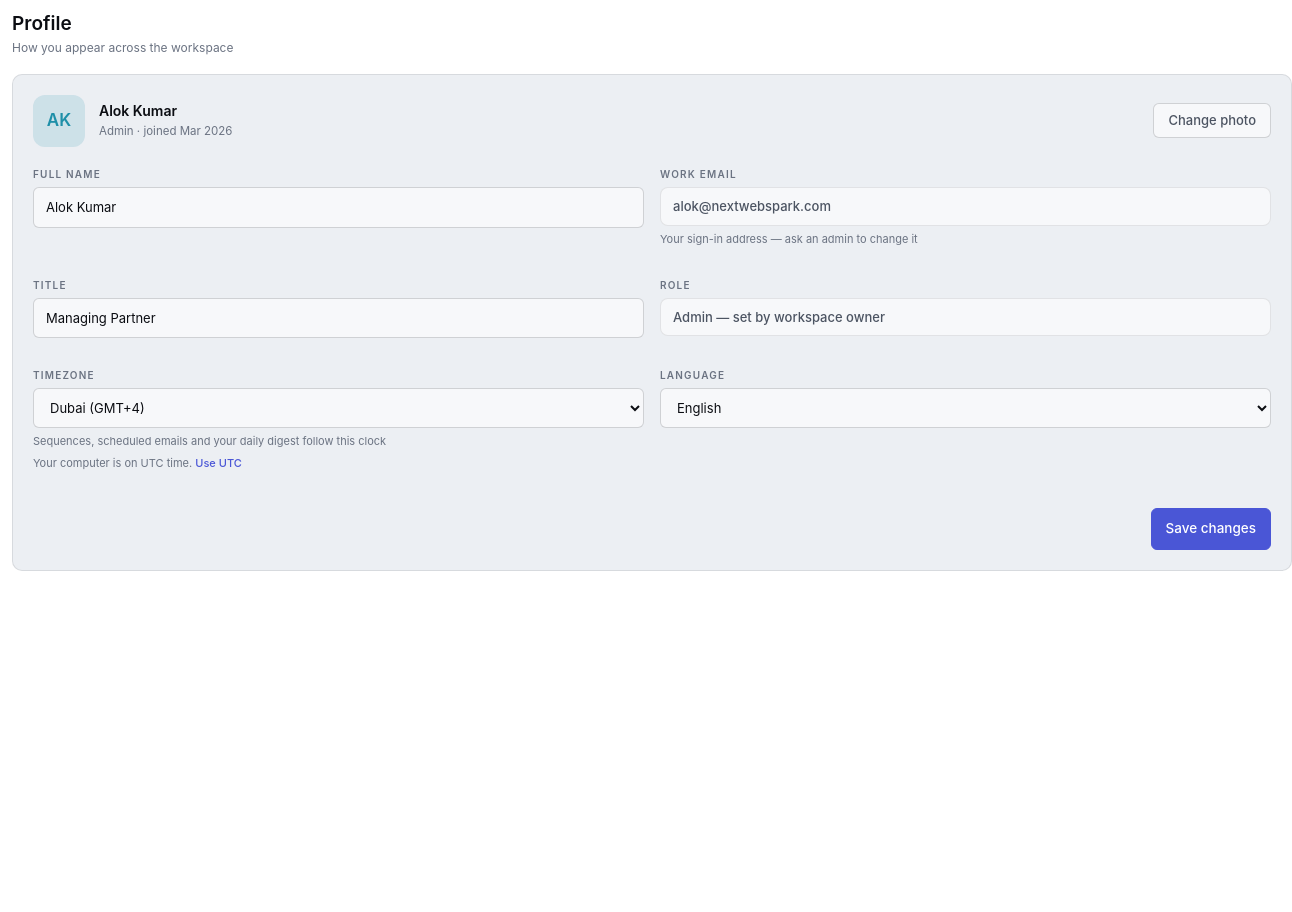
SettingsProfilePage — your own profile › saves the trimmed fields, refreshes the session, and says so
The image size is (1292, 912).
Replace the text in the field labelled "Full name" with "  Alok B Kumar  ": (338, 207) [33, 187, 644, 228]
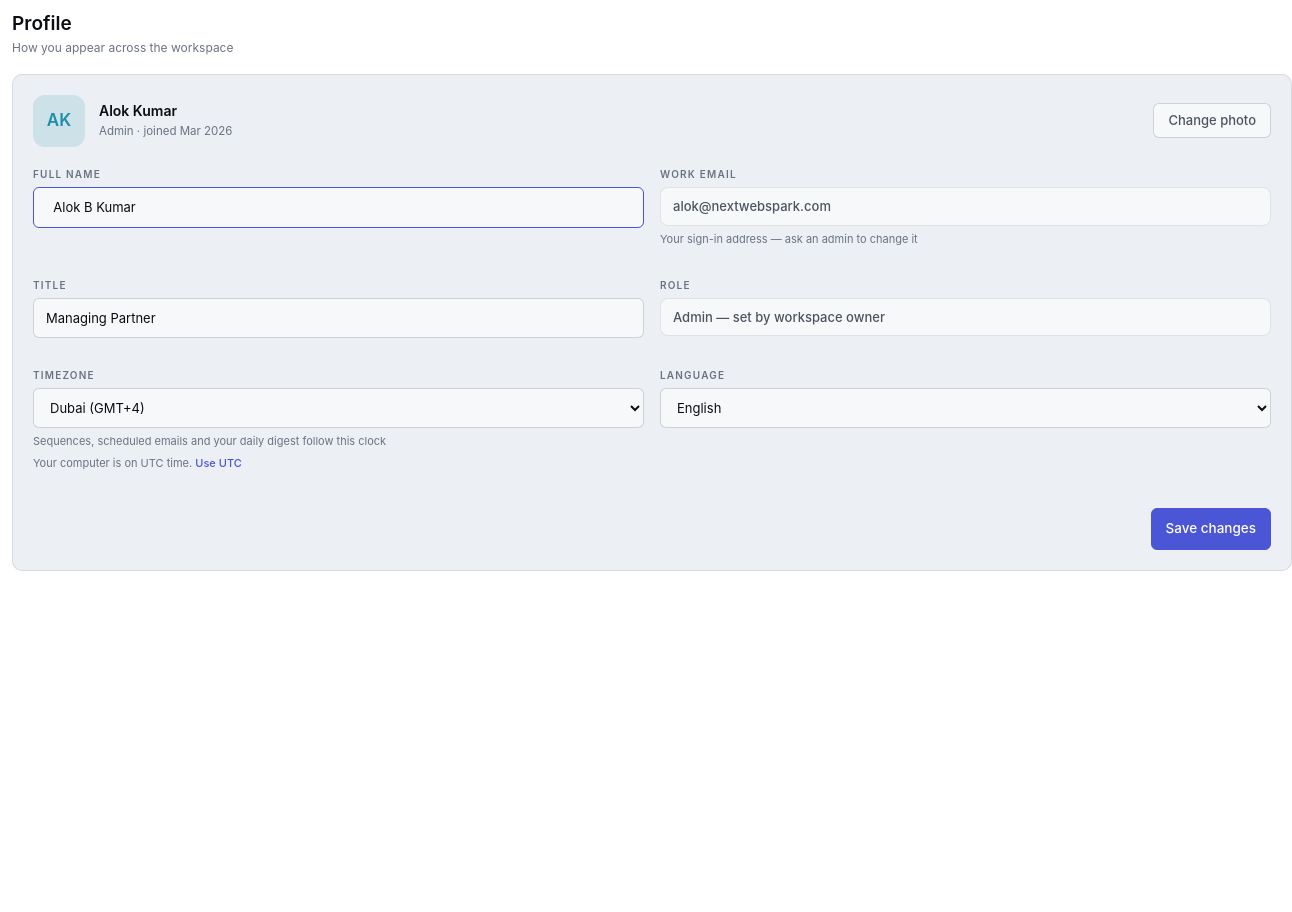
Select "Riyadh (GMT+3)" in the dropdown labelled "Timezone": (338, 408) [33, 388, 644, 428]
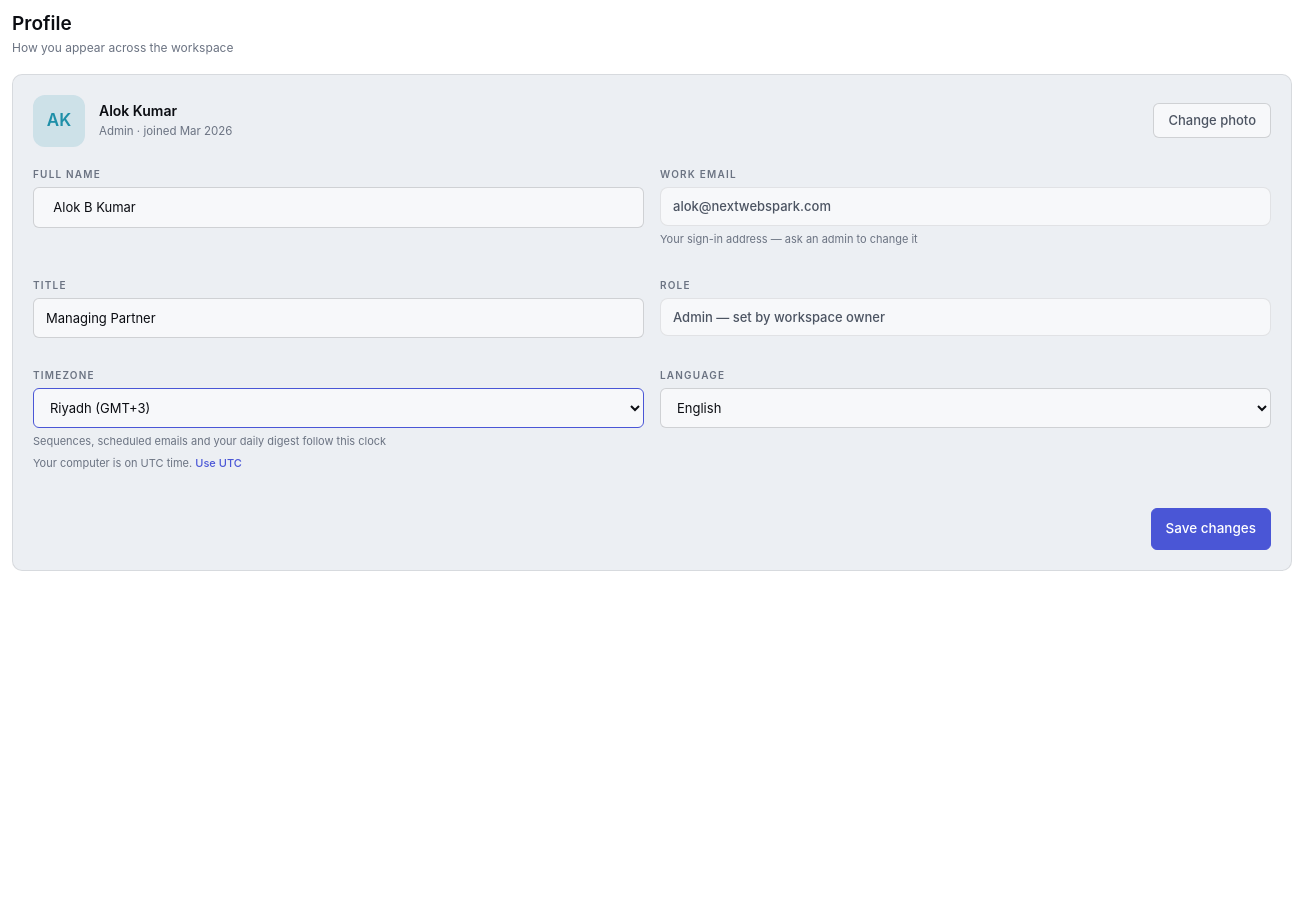
Click the button "Save changes": (1211, 529) [1150, 508, 1271, 550]
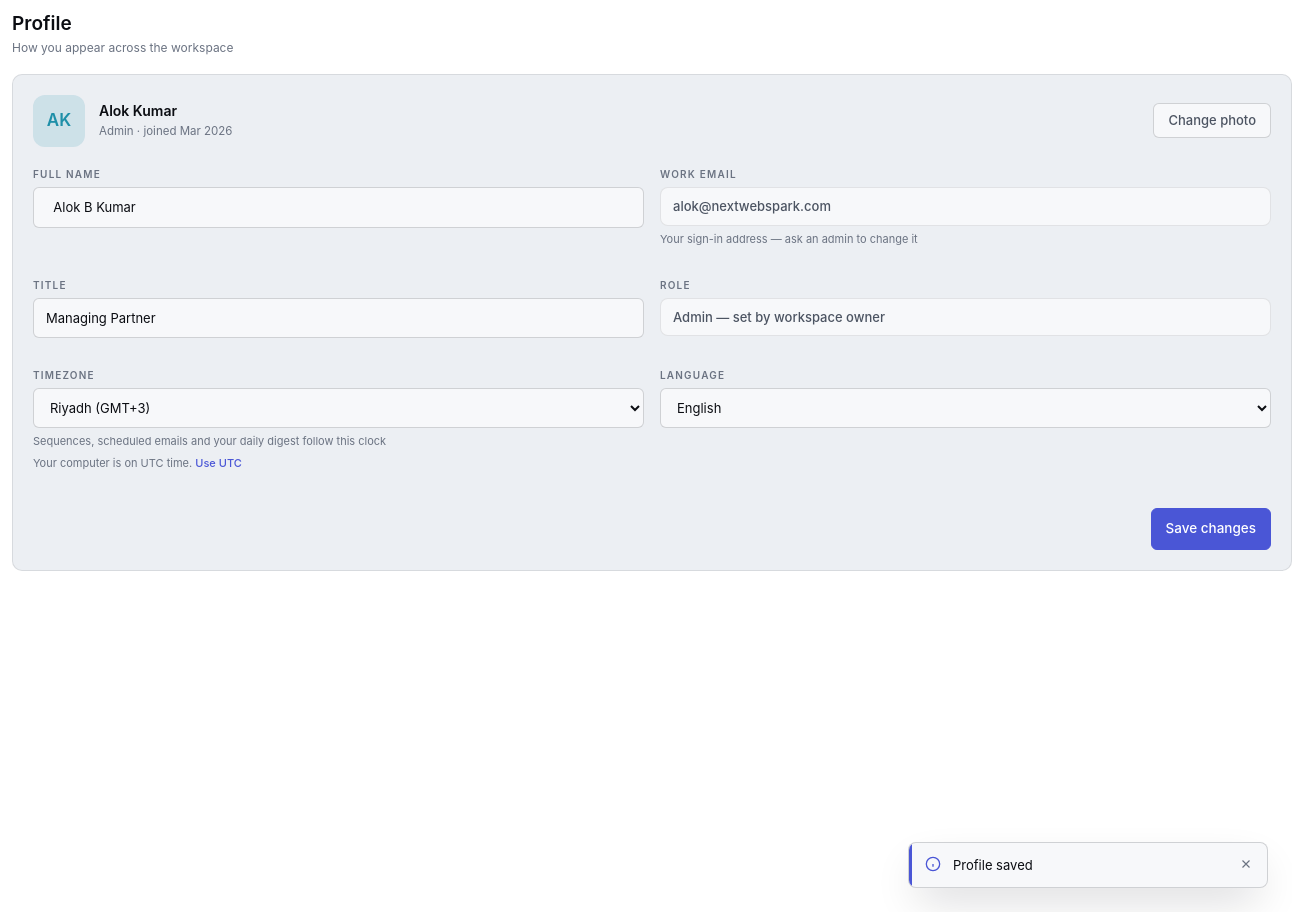
Check: the text "Profile saved" is shown, box [953, 857, 1033, 873]
